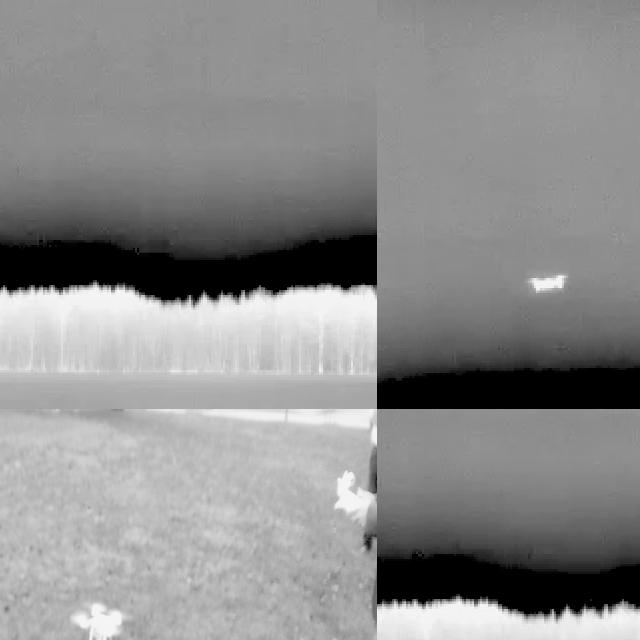1: (519, 268, 579, 303)
drone: (77, 599, 127, 640)
